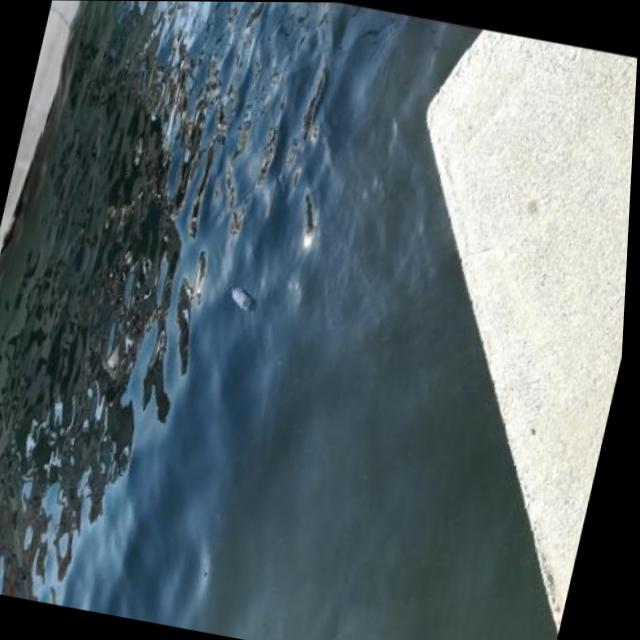plastic: (228, 284, 254, 309)
